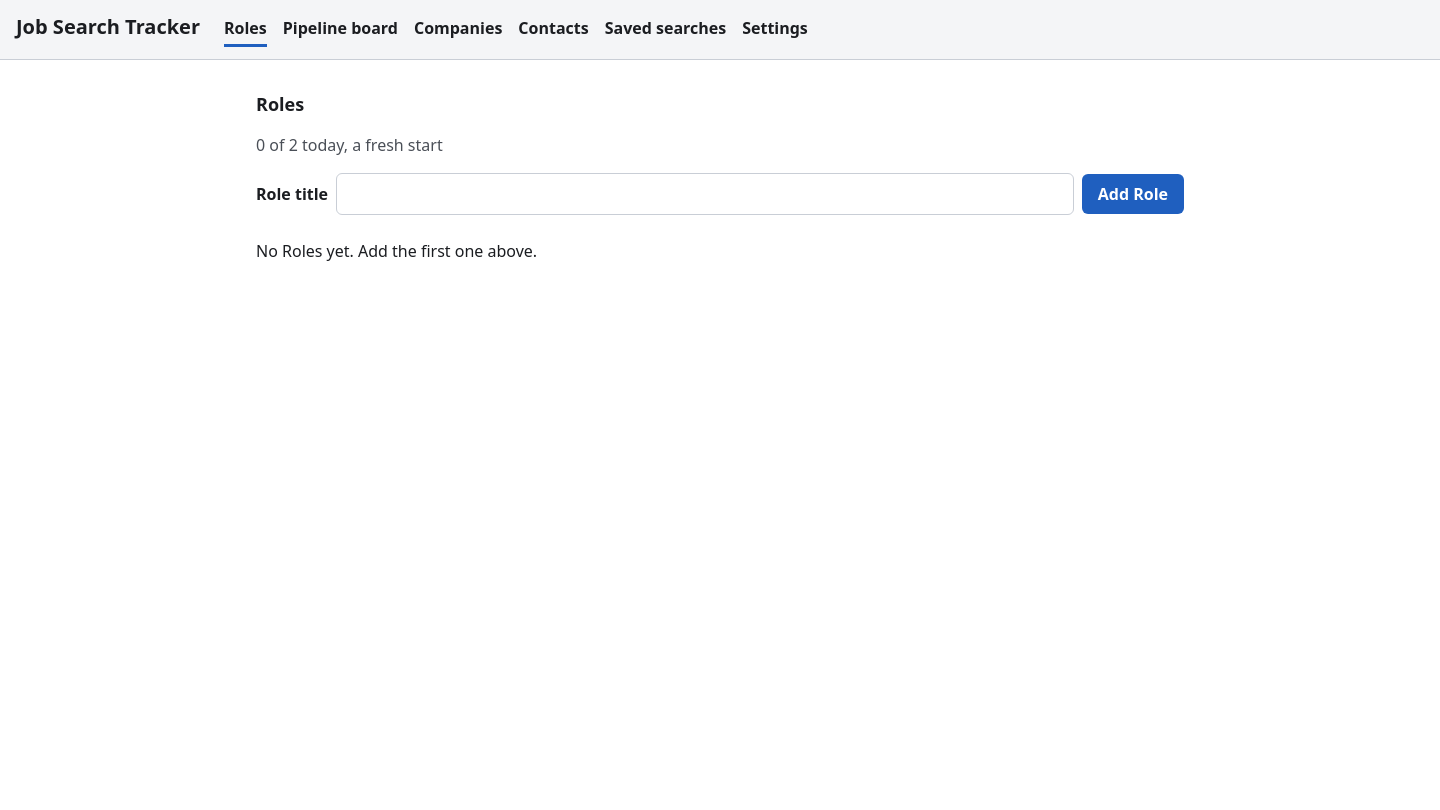
Test: Saved searches page › Given a checked Saved search, when I edit its name and link and clear its site, then the list shows the edits and it is still checked
The image size is (1440, 810).
Click the link "Saved searches" at (665, 30), box [605, 12, 726, 47]
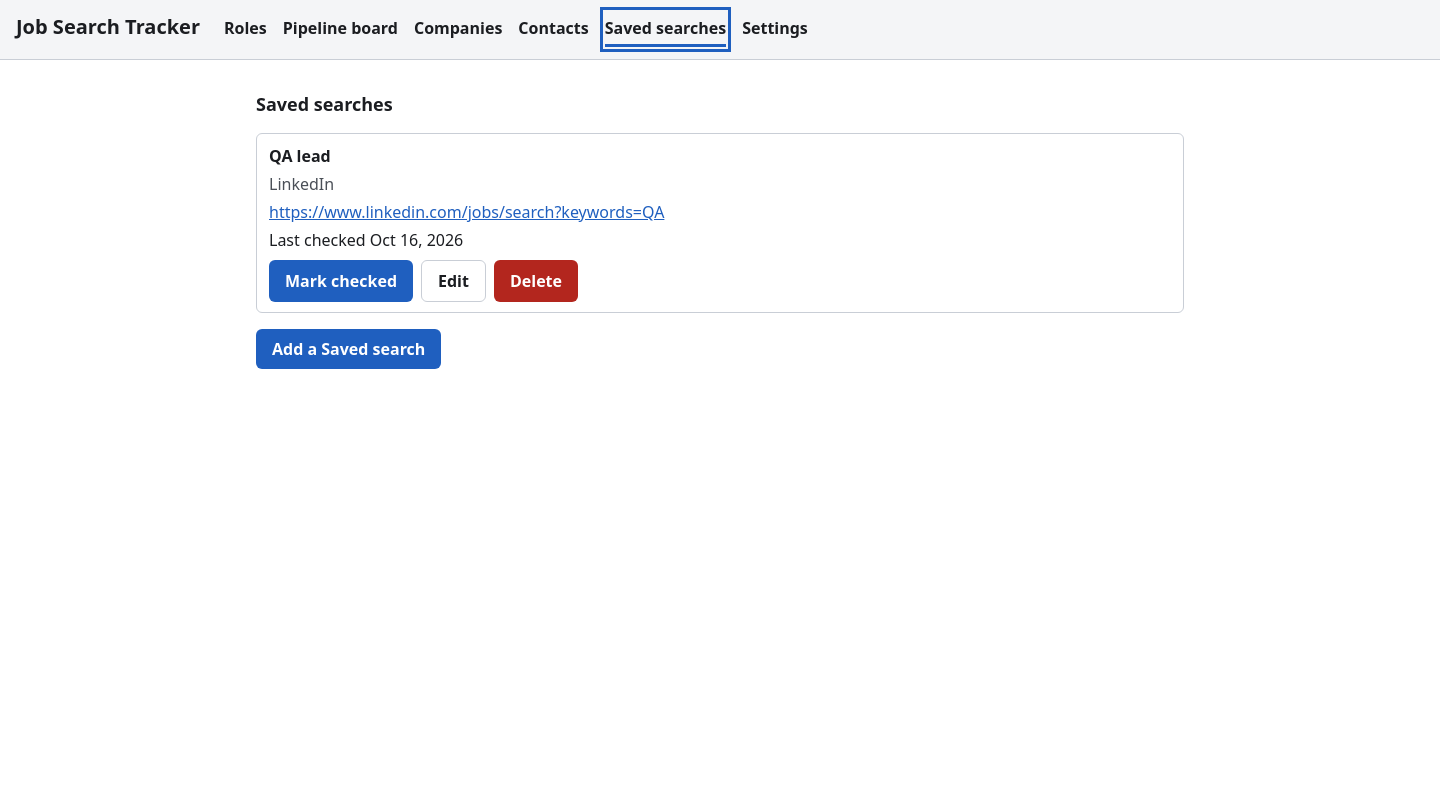
Expected: the heading "Saved searches" is shown, [256, 92, 393, 116]
Click the button with aria-label "Edit QA lead" at (453, 281), box [421, 260, 486, 302]
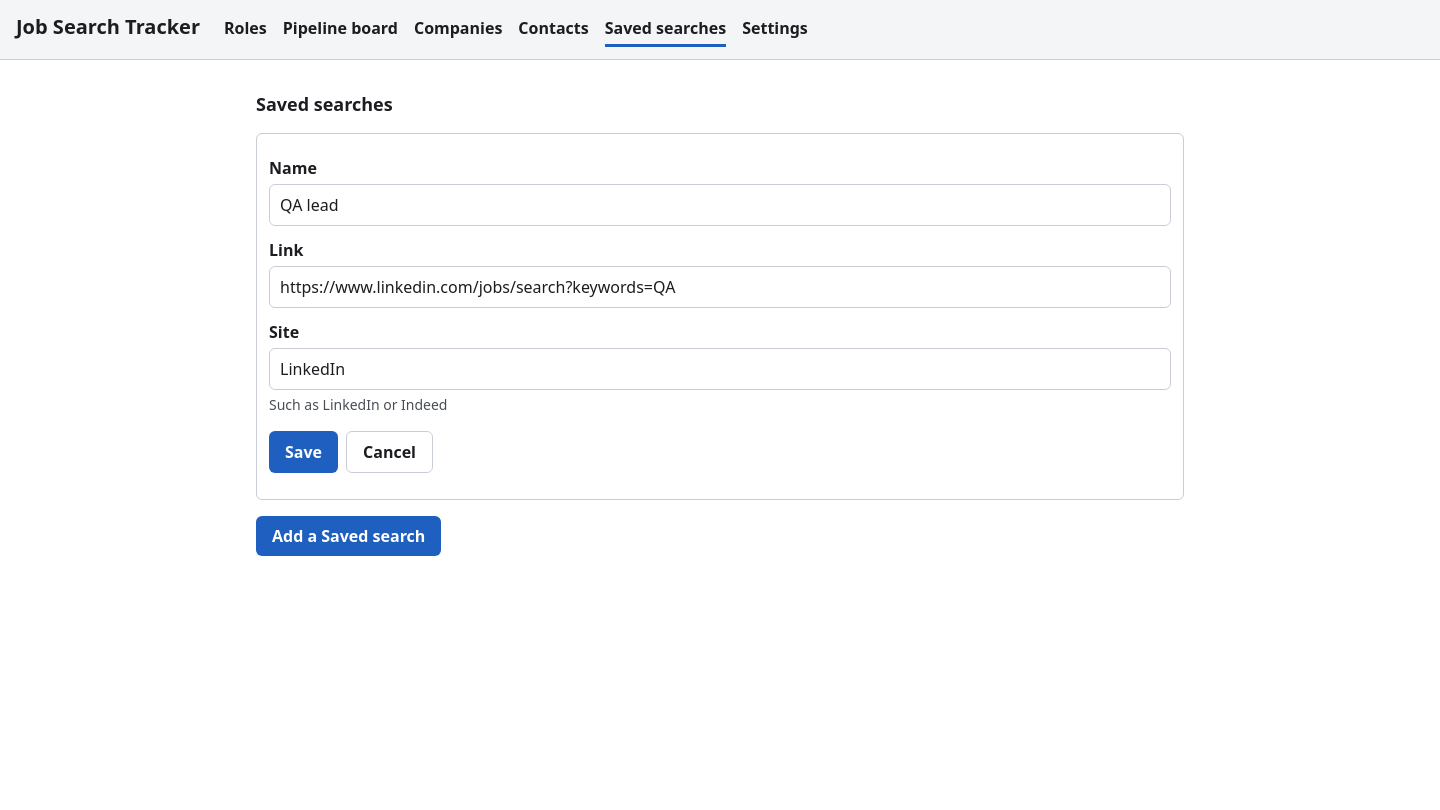
Replace the text in the field labelled "Name" with "Senior QA" at (720, 205), box [269, 184, 1171, 226]
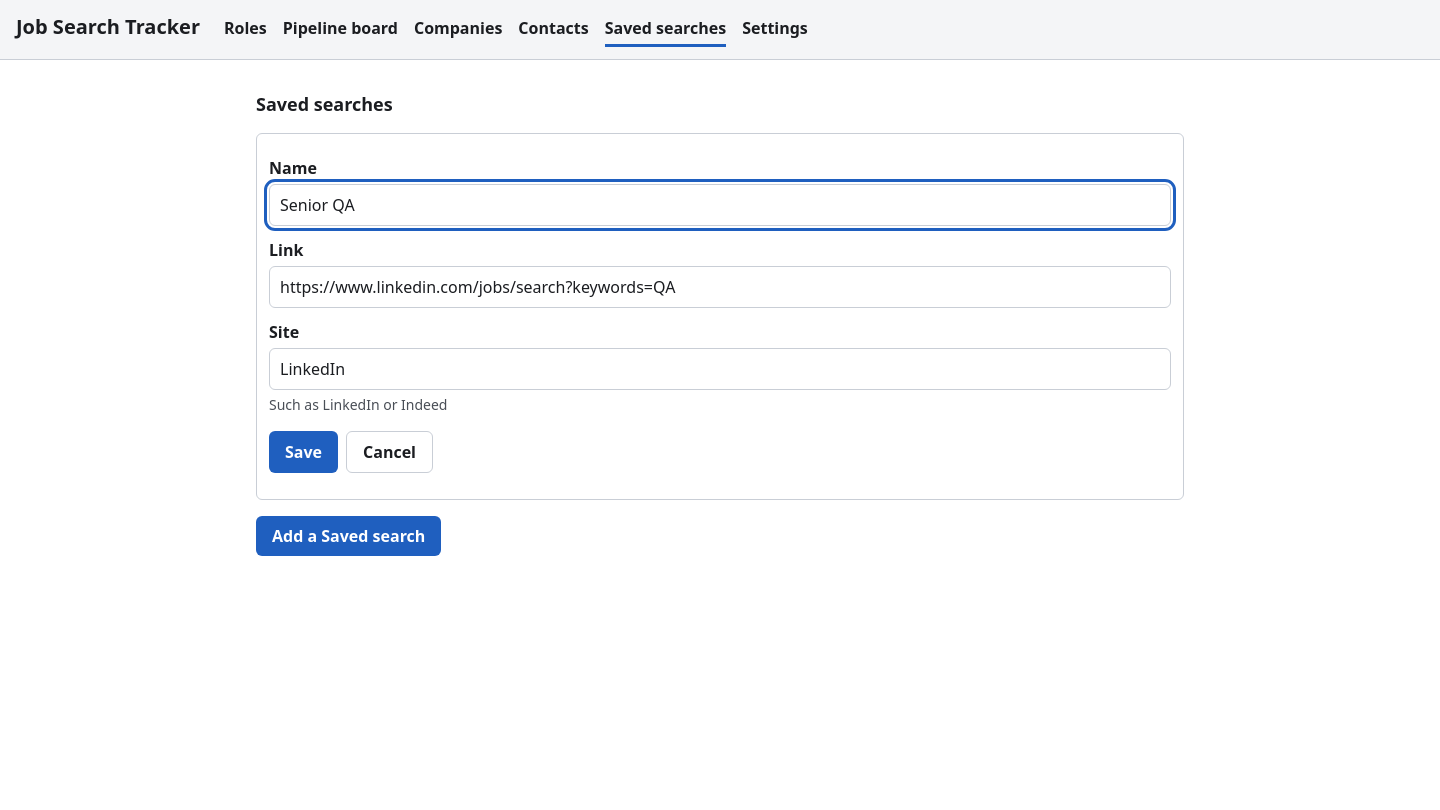
Replace the text in the field labelled "Link" with "https://www.indeed.com/jobs?q=senior+qa" at (720, 287), box [269, 266, 1171, 308]
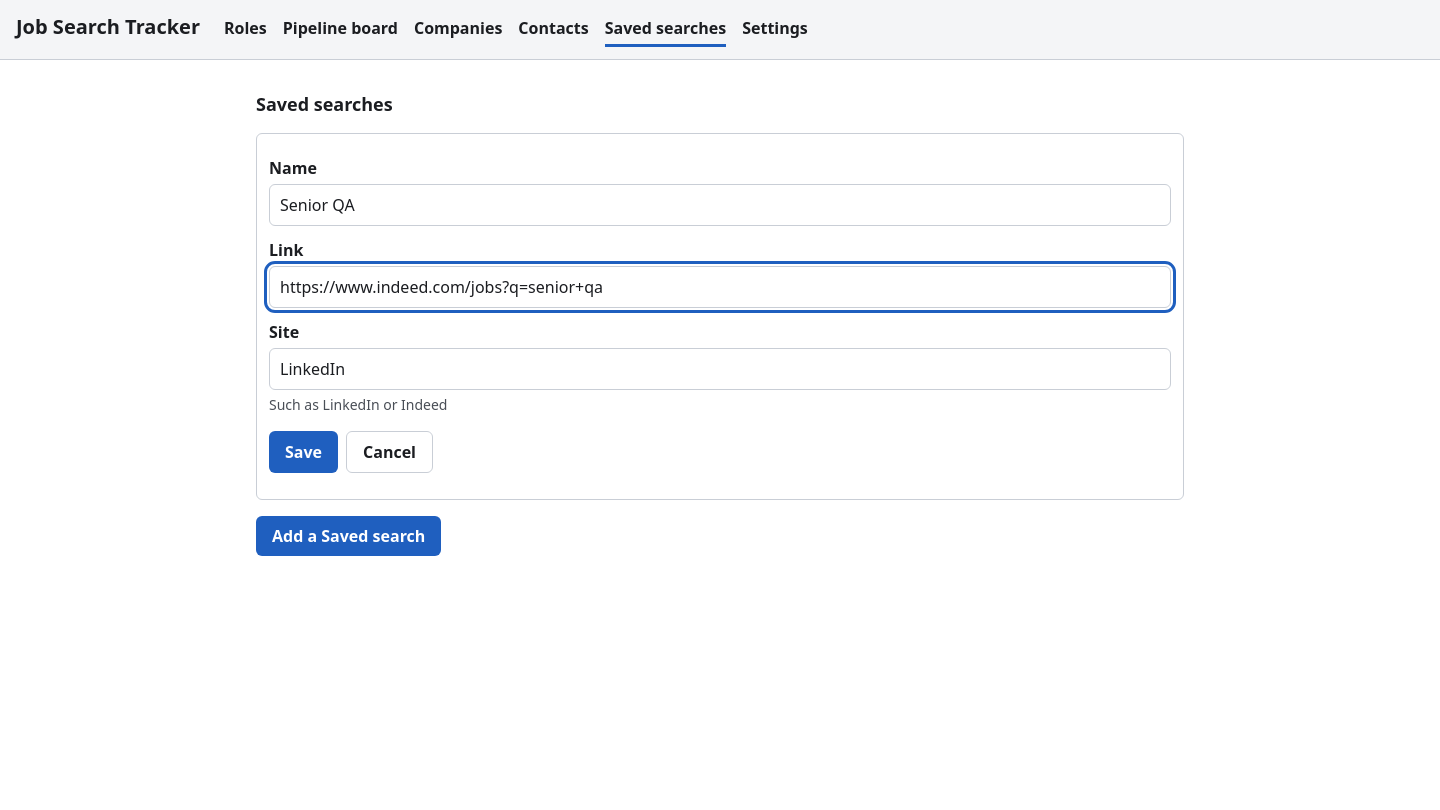
Clear the field labelled "Site" at (720, 369), box [269, 348, 1171, 390]
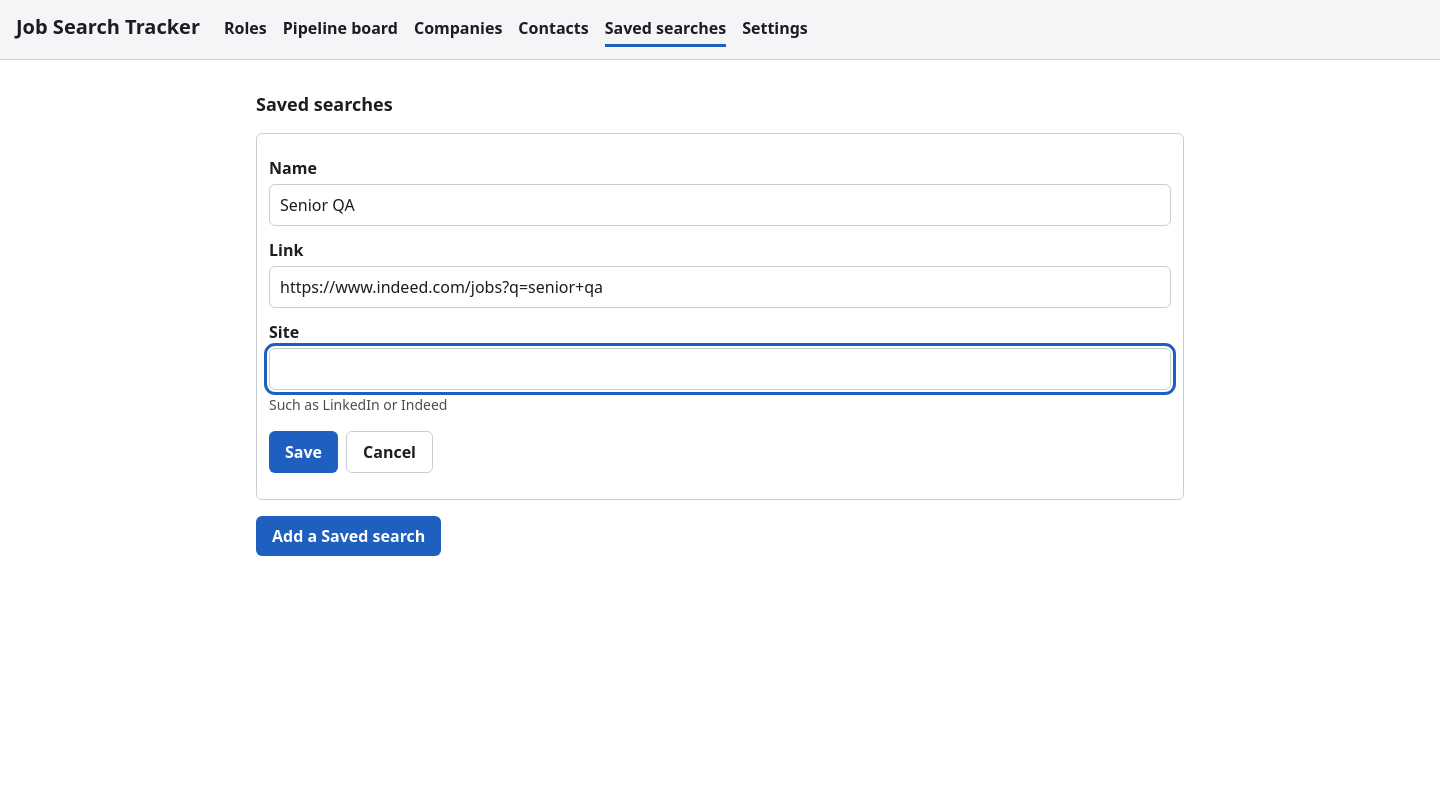
Click the button "Save" at (304, 452), box [269, 431, 338, 473]
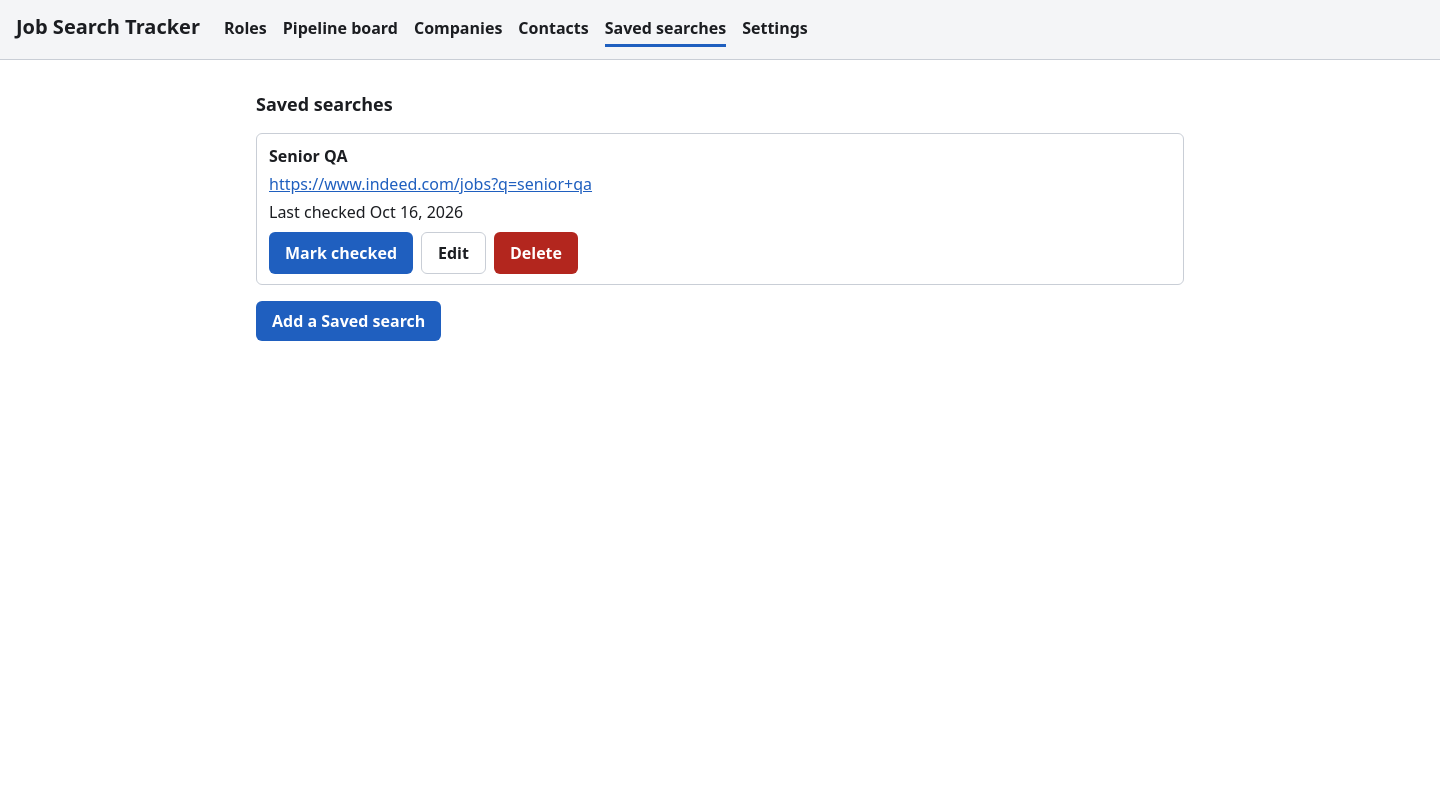
Expected: the heading "Senior QA" is shown, [269, 145, 348, 167]
Expected: the list item no longer shows "LinkedIn", [269, 145, 592, 274]
Expected: the list item shows "Last checked Oct 16, 2026", [269, 201, 463, 223]
